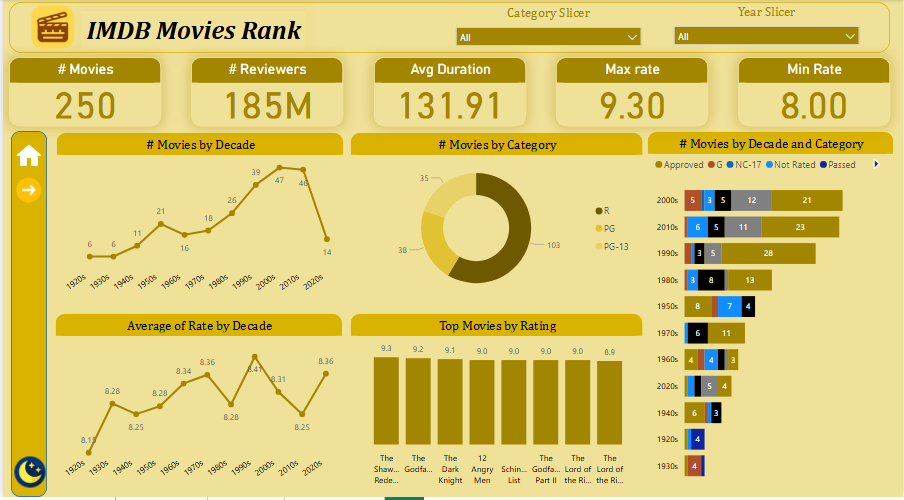

What the dashboard file says about the page in this screenshot:
{"tool":"powerbi","page":{"name":"Overview","canvas":[1300,720],"ordinal":0},"visuals":[{"type":"shape","box":[8.7,4.3,1273.7,73.7],"z":0},{"type":"shape","box":[11.6,190.8,52,529.2],"z":1000},{"type":"textbox","box":[112.8,17.3,325.3,54.9],"z":2000,"group":"g2"},{"type":"donutChart","fields":{"Category":["Top250Movies.Category"],"Y":["Dax_MEs.# Movies"]},"box":[501.7,191.9,423.6,255.9],"z":2000},{"type":"card","title":"# Movies","fields":{"Values":["Dax_MEs.# Movies"]},"box":[8.7,83.9,219.7,100],"z":3000,"group":"g1"},{"type":"lineChart","title":"Average of Rate by Decade","fields":{"Y":["Avg(Top250Movies.Rate)"],"Category":["Top250Movies.Decade"]},"box":[74.8,453.9,416.4,263.1],"z":3000},{"type":"card","title":"# Reviewers","fields":{"Values":["Dax_MEs.# Reviewers"]},"box":[272.3,83.9,219.7,100],"z":4000,"group":"g1"},{"type":"lineChart","fields":{"Y":["Dax_MEs.# Movies"],"Category":["Top250Movies.Decade"]},"box":[76.8,191.7,416.4,255.9],"z":4000},{"type":"card","title":"Avg Duration","fields":{"Values":["Dax_MEs.Avg Duration"]},"box":[536,83.9,219.7,100],"z":5000,"group":"g1"},{"type":"columnChart","title":"Top Movies by Rating","fields":{"Category":["Top250Movies.Movie"],"Y":["Dax_MEs.Max rate"]},"box":[501.1,454,423.6,263.1],"z":5000},{"type":"slicer","title":"Year Slicer","fields":{"Values":["Top250Movies.Year"]},"box":[960,7.2,287.7,63.6],"z":6000},{"type":"card","title":"Max rate","fields":{"Values":["Dax_MEs.Max rate"]},"box":[799.6,83.9,219.7,100],"z":6000,"group":"g1"},{"type":"card","title":"Min Rate","fields":{"Values":["Dax_MEs.Min Rate"]},"box":[1063.3,83.9,219.7,100],"z":7000,"group":"g1"},{"type":"image","box":[13,202.4,49.2,49.2],"z":7000},{"type":"image","box":[11.6,656.4,55,55],"z":8000},{"type":"barChart","fields":{"Y":["Dax_MEs.# Movies"],"Category":["Top250Movies.Decade"],"Series":["Top250Movies.Category"]},"box":[931.1,190.8,357.1,526.3],"z":9000},{"type":"slicer","title":"Category Slicer","fields":{"Values":["Top250Movies.Category"]},"box":[644.8,8.7,287.7,63.6],"z":10000},{"type":"group","id":"g1","title":"Group 1","box":[8.7,83.9,1273.7,99.8],"z":11000},{"type":"group","id":"g2","title":"Group 2","box":[112.8,17.3,325.3,54.9],"z":12000},{"type":"image","box":[31.8,1.4,81,78.1],"z":13000},{"type":"image","box":[11.6,251.6,50.6,49.2],"z":14000}]}

Visuals, with their boxes in screenshot pixels (x1, y1, x2, y2), scaled from the page's 1300x720 canvas onto the 904x500 screenshot:
shape: (6,3,892,54)
shape: (8,132,44,499)
textbox: (78,12,305,50)
donutChart - Top250Movies.Category x Dax_MEs.# Movies: (349,133,643,311)
"# Movies" card: (6,58,159,128)
"Average of Rate by Decade" lineChart: (52,315,342,498)
"# Reviewers" card: (189,58,342,128)
lineChart - Dax_MEs.# Movies x Top250Movies.Decade: (53,133,343,311)
"Avg Duration" card: (373,58,526,128)
"Top Movies by Rating" columnChart: (348,315,643,498)
"Year Slicer" slicer: (668,5,868,49)
"Max rate" card: (556,58,709,128)
"Min Rate" card: (739,58,892,128)
image: (9,141,43,175)
image: (8,456,46,494)
barChart - Dax_MEs.# Movies x Top250Movies.Decade: (647,132,896,498)
"Category Slicer" slicer: (448,6,648,50)
"Group 1" group: (6,58,892,128)
"Group 2" group: (78,12,305,50)
image: (22,1,78,55)
image: (8,175,43,209)
